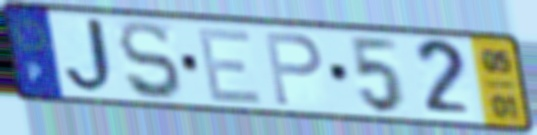2: (411, 36, 482, 125)
5: (345, 33, 411, 116)
E: (194, 26, 266, 107)
J: (62, 16, 123, 98)
P: (261, 28, 325, 108)
S: (115, 18, 185, 103)
